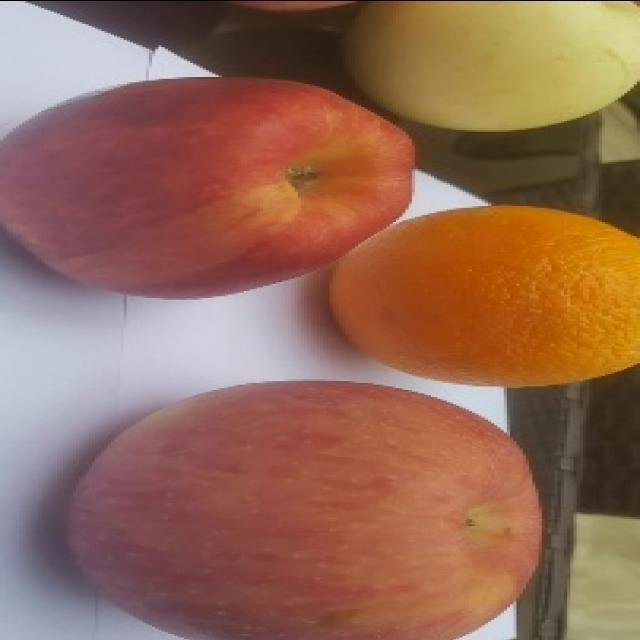Apple: (65, 378, 543, 639), (0, 74, 415, 299)
Orange: (328, 202, 639, 388)
